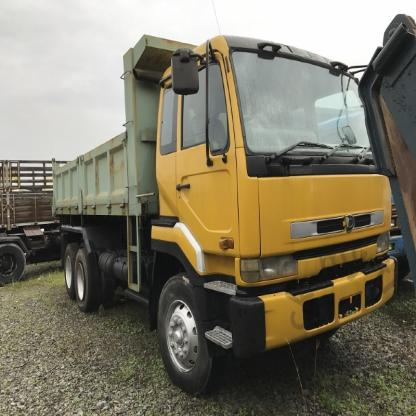dump_truck: (52, 29, 391, 396)
